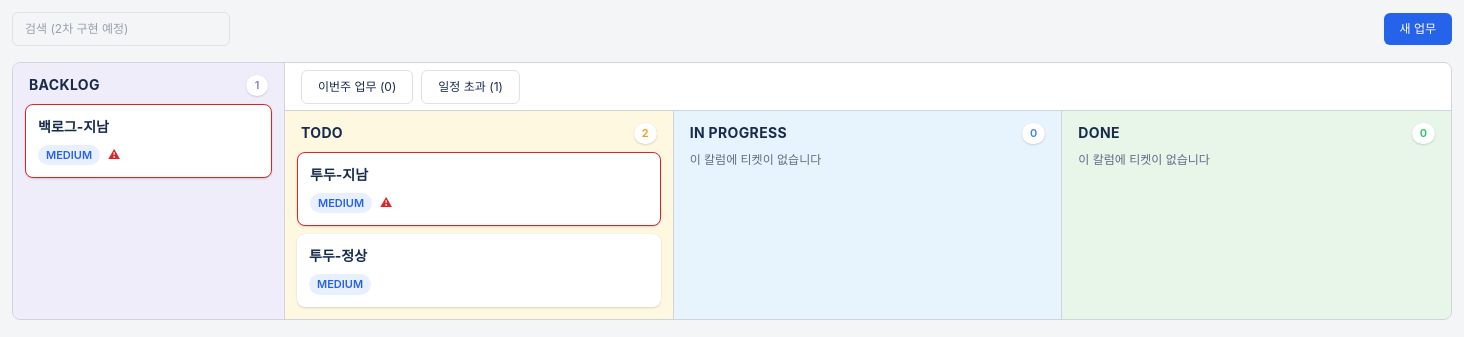
Test: BoardContainer › 필터 적용 시 TODO/IN_PROGRESS만 필터링되고 BACKLOG는 항상 전체 표시된다
The width and height of the screenshot is (1464, 337).
Click the button "일정 초과 (1)" at {"x": 471, "y": 86}, box top-left (421, 70), bottom-right (520, 104)
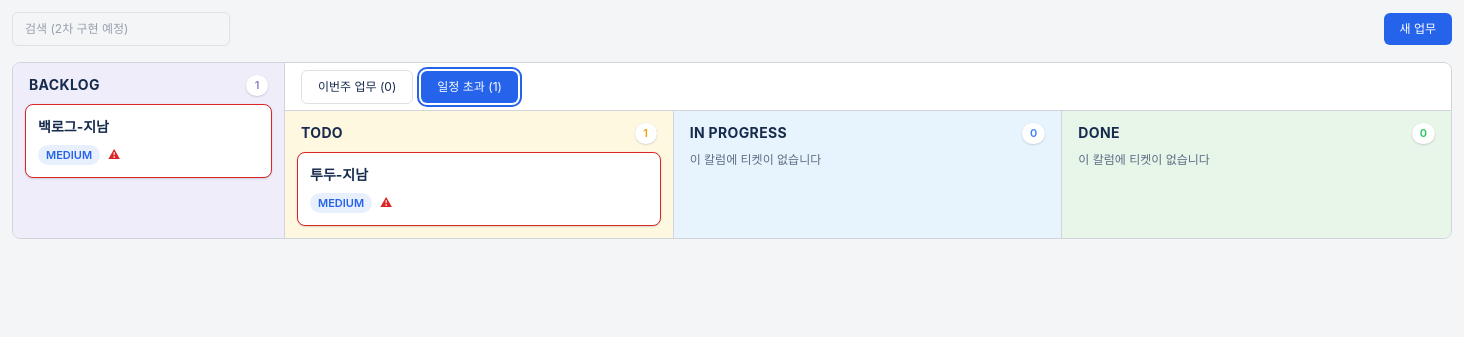
Check: the text "백로그-지남" is shown, box top-left (38, 118), bottom-right (109, 134)
Check: the button "투두-정상" is gone
Click the button "일정 초과 (1)" at {"x": 470, "y": 86}, box top-left (421, 70), bottom-right (518, 102)
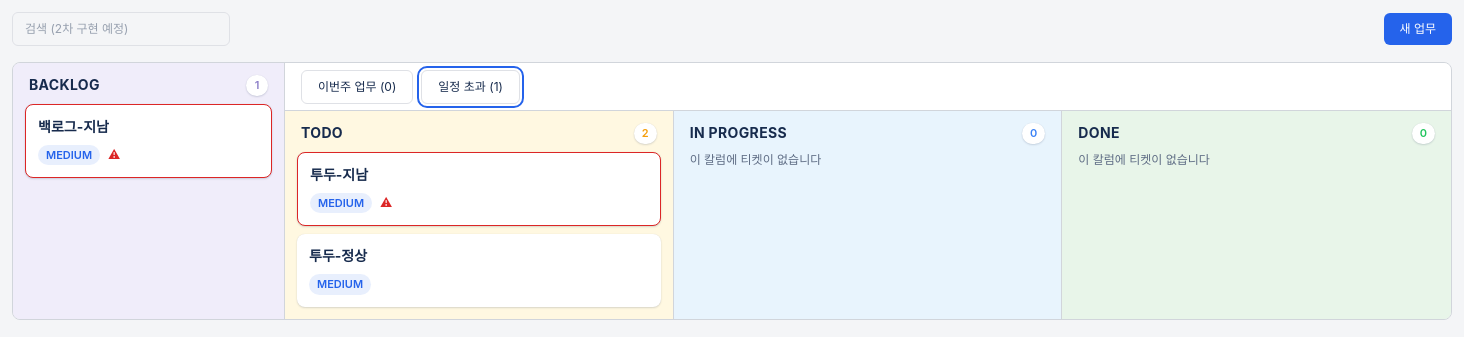
Check: the text "투두-정상" is shown, box top-left (309, 247), bottom-right (367, 264)
